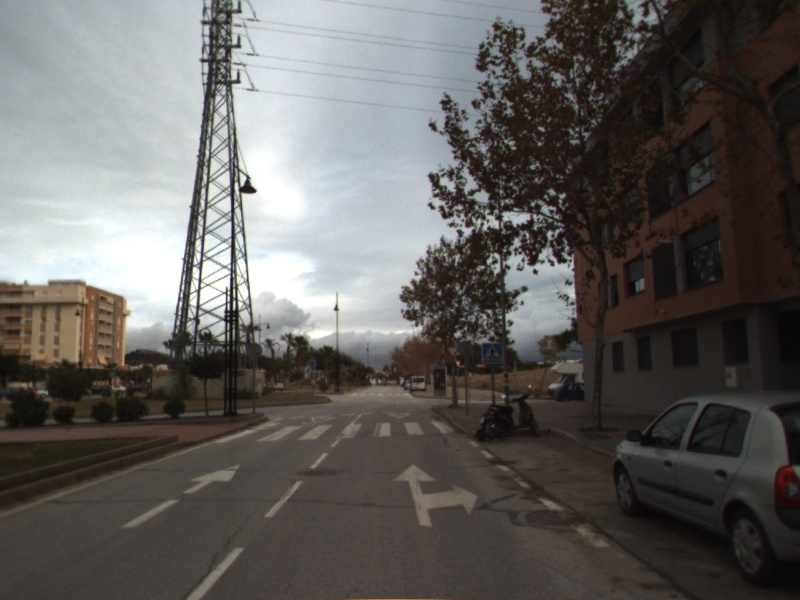STRAIGHT: (120, 462, 242, 530)
STRAIGHT_RIGHT: (390, 462, 479, 528)
